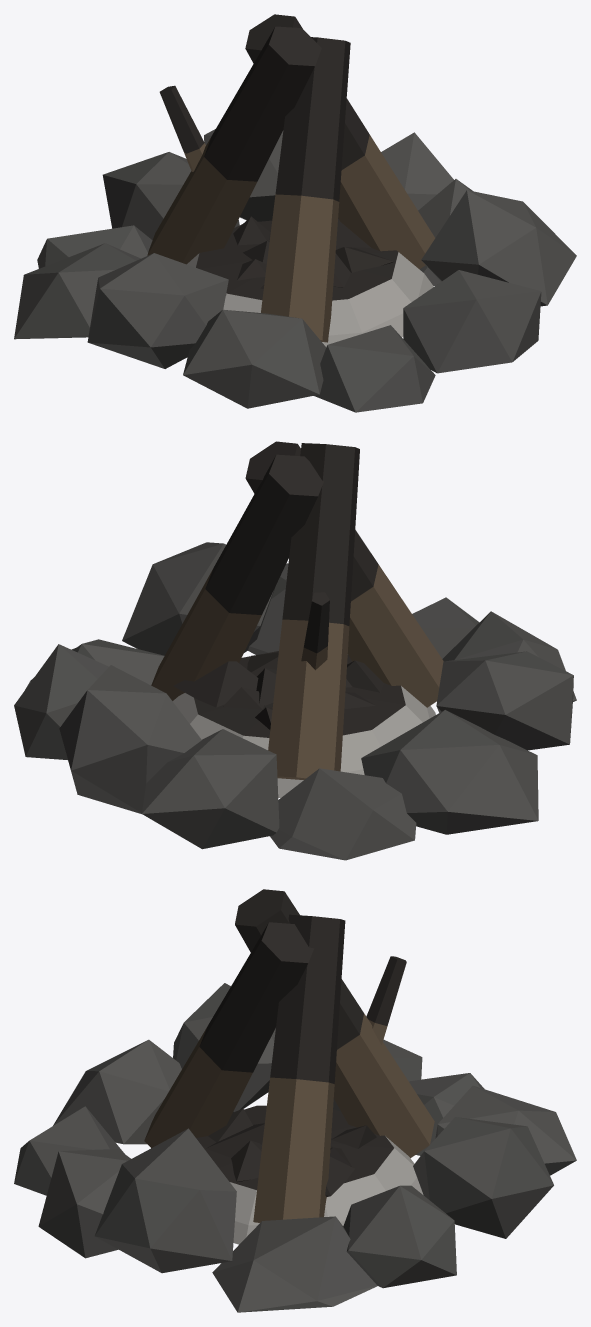
File: campfire.glb
3 views of the same model, one above another, from view 1: azimuth 30°, elevation 25°; view 2: azimuth 150°, elevation 25°; view 3: azimuth 270°, elevation 25° (orthographic). The views are drawn at different scales.
Parts seen in each view (by area): view 1: Campfire; view 2: Campfire; view 3: Campfire.
Boxes of the visible parts, x1=… form: Campfire: x1=14, y1=14, x2=576, y2=412; Campfire: x1=14, y1=441, x2=576, y2=860; Campfire: x1=14, y1=889, x2=576, y2=1312.
Size of the model in its own units: 0.7085 by 0.3778 by 0.6746.
